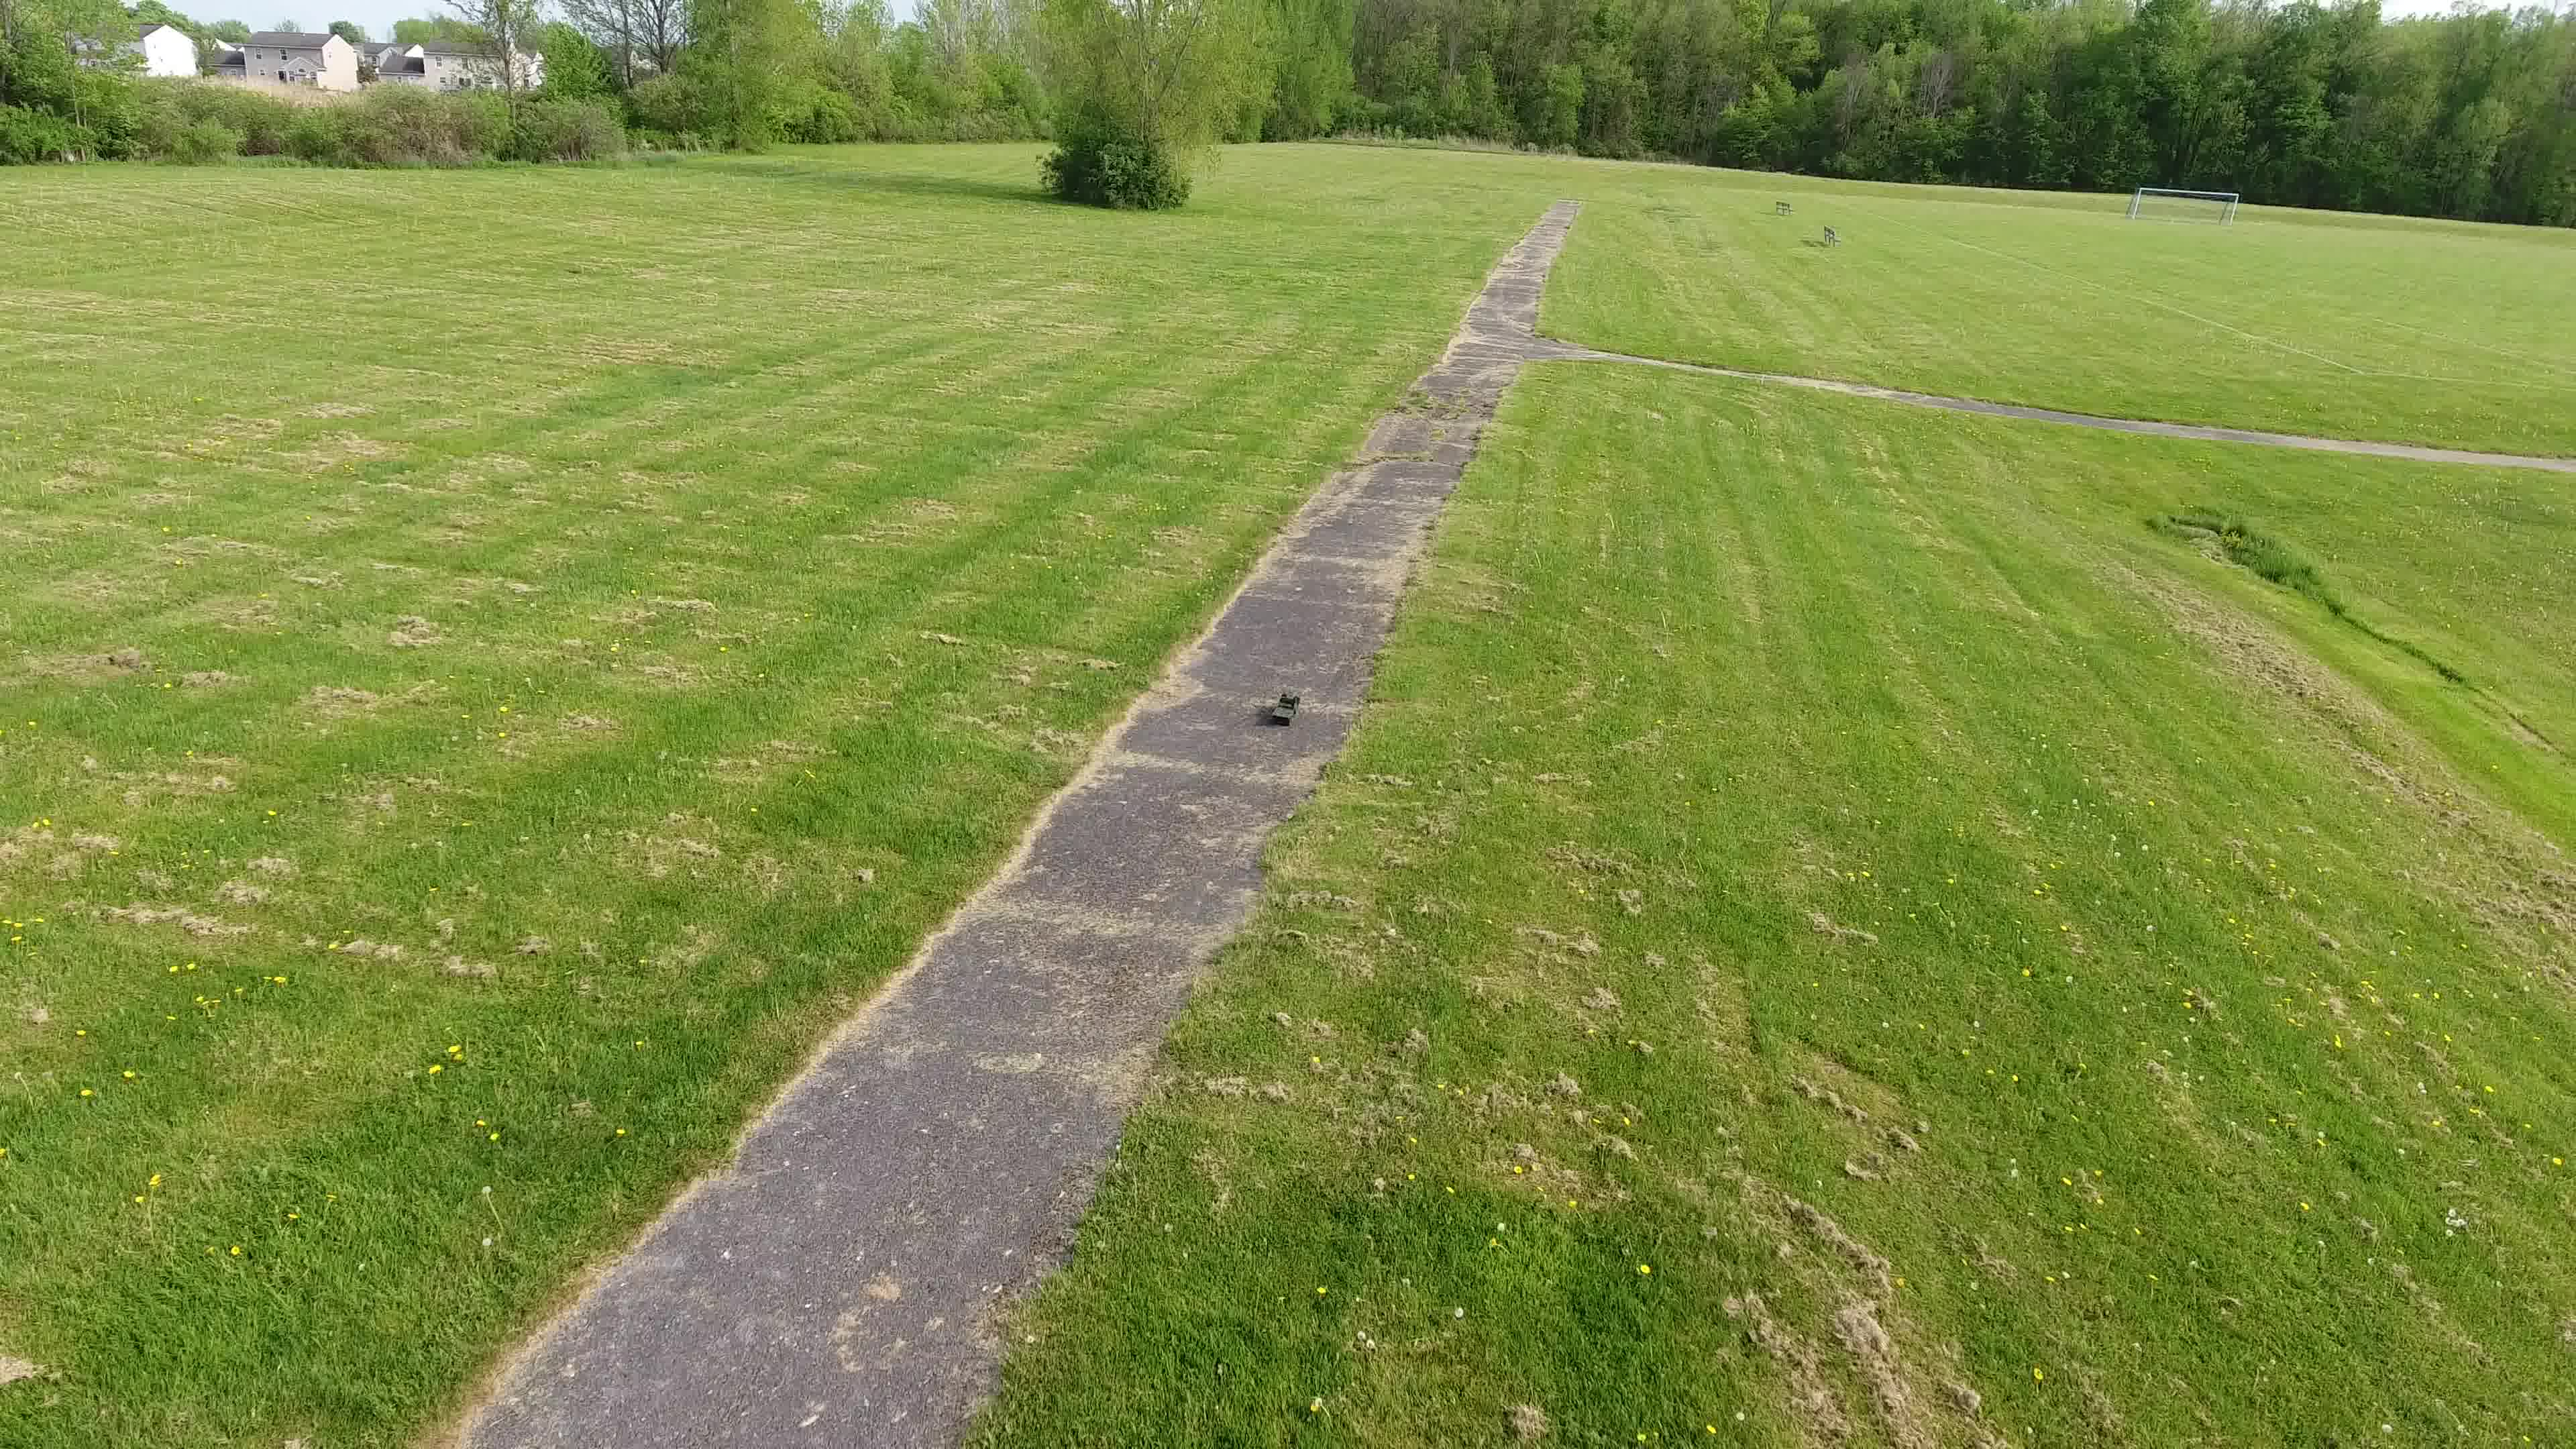transporter9_camo: (1270, 690, 1302, 727)
